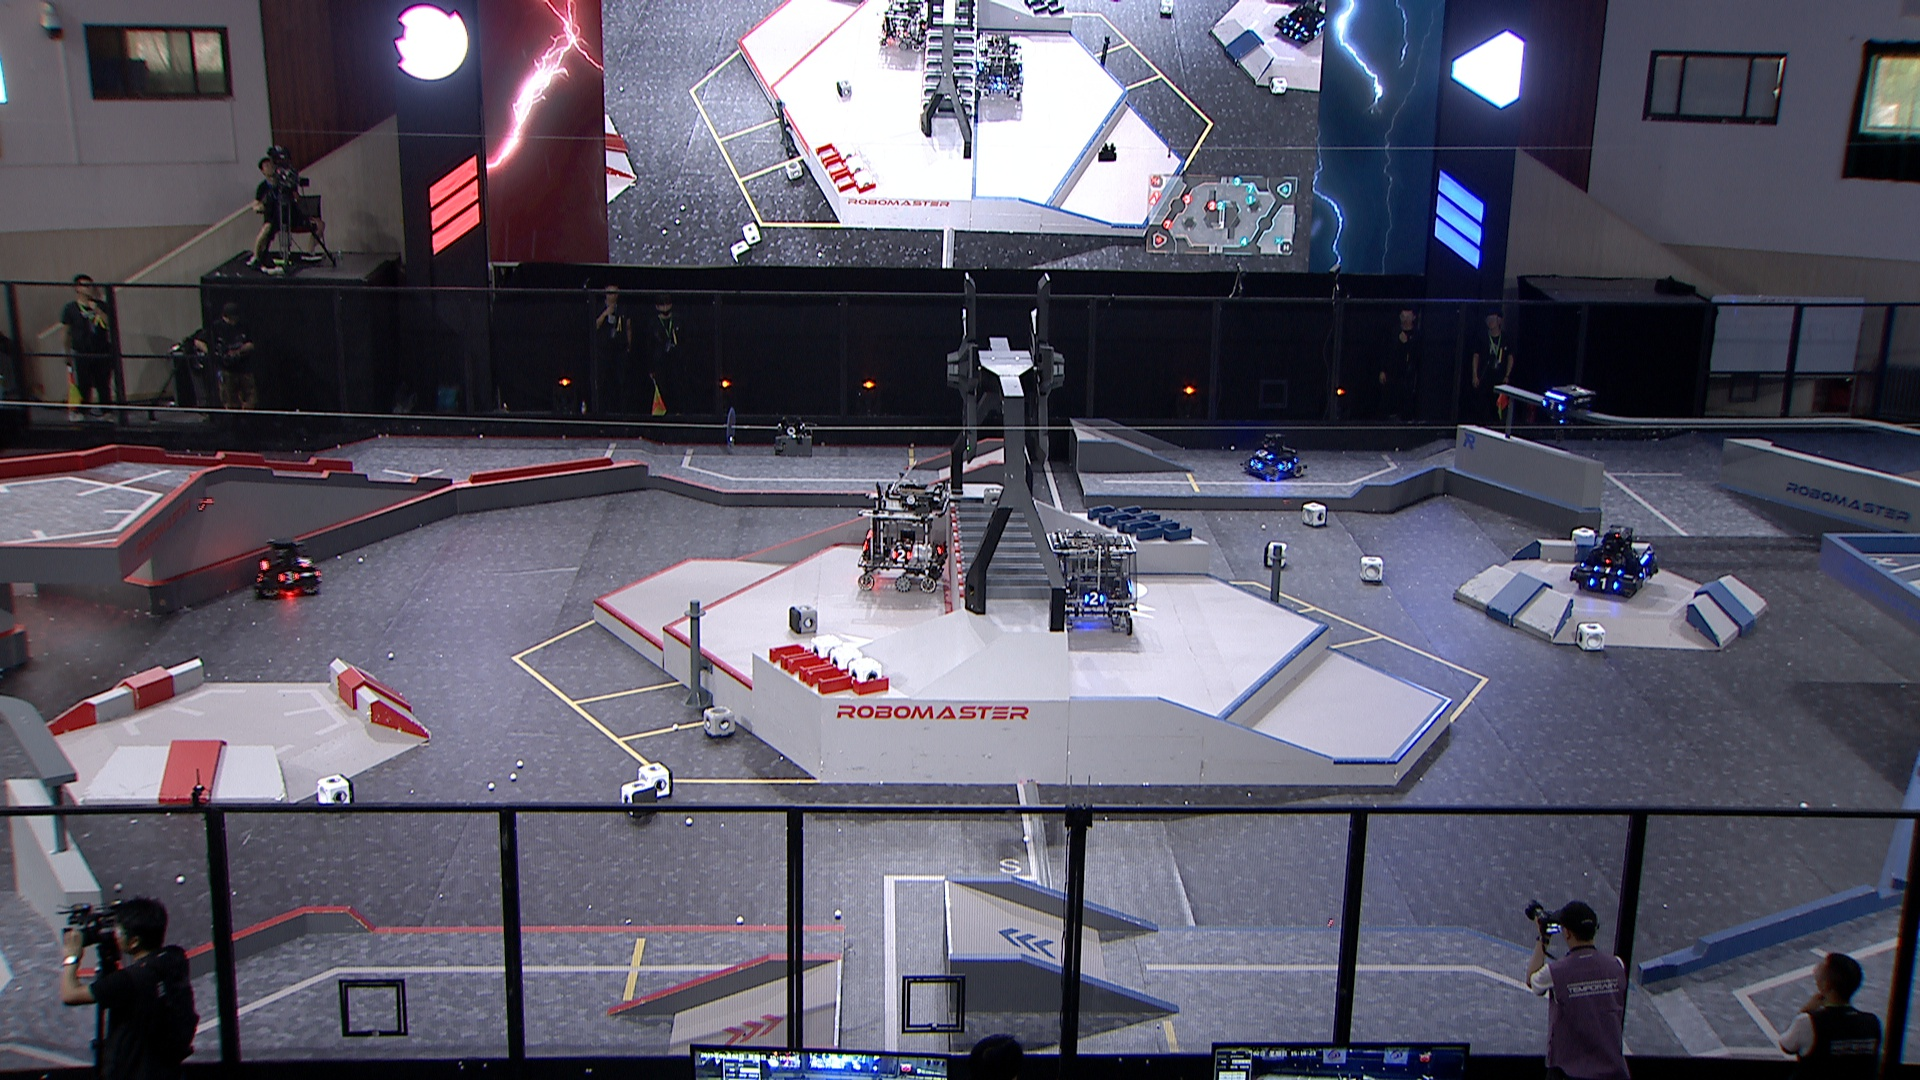armor: (1586, 576, 1621, 593), (1083, 589, 1106, 608), (1593, 564, 1623, 578), (277, 570, 301, 585), (889, 549, 913, 564), (1542, 400, 1565, 414), (1636, 567, 1654, 580), (295, 556, 314, 567), (1255, 450, 1273, 460), (1278, 460, 1294, 471), (1247, 460, 1263, 469)
car: (855, 479, 953, 595), (1040, 527, 1143, 636), (1572, 524, 1662, 599), (252, 537, 320, 597), (1240, 431, 1309, 483)
ignore: (975, 29, 1027, 104)
watcher: (1538, 382, 1596, 442)
